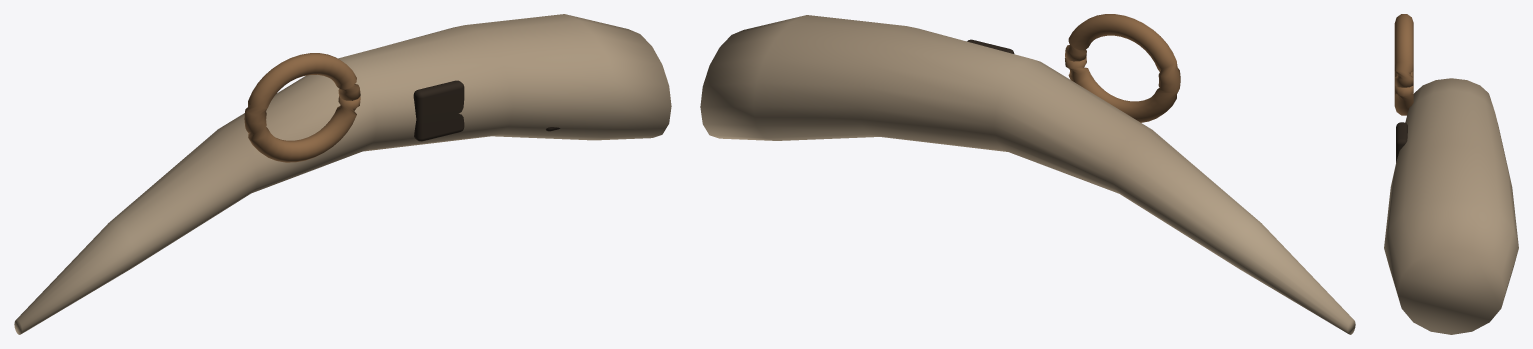
The picture shows the model from 3 angles, left to right: view 1: azimuth 30°, elevation 25°; view 2: azimuth 150°, elevation 25°; view 3: azimuth 270°, elevation 25°; orthographic projection. The views are drawn at different scales.
Visible parts, largest first — view 1: Tapered curved arrowhead tool, Small attachment ring, Visible dark socket; view 2: Tapered curved arrowhead tool, Small attachment ring; view 3: Tapered curved arrowhead tool, Small attachment ring, Visible dark socket.
Boxes of the visible parts, box(x1,y1,x2,y2) form: Tapered curved arrowhead tool: box(14, 14, 671, 334); Small attachment ring: box(244, 53, 360, 162); Visible dark socket: box(413, 80, 464, 141); Tapered curved arrowhead tool: box(700, 15, 1355, 334); Small attachment ring: box(1065, 14, 1180, 122); Tapered curved arrowhead tool: box(1384, 78, 1518, 334); Small attachment ring: box(1394, 14, 1413, 115); Visible dark socket: box(1396, 122, 1407, 162).
Bounding box in the file's own units: 0.092 × 0.0333 × 0.02.
